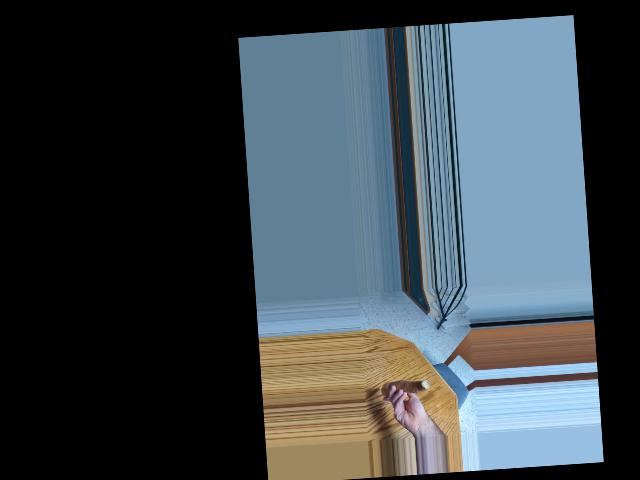sweet_potato: (380, 378, 430, 400)
